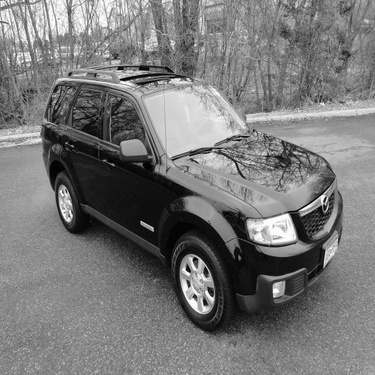car: (44, 57, 346, 338)
